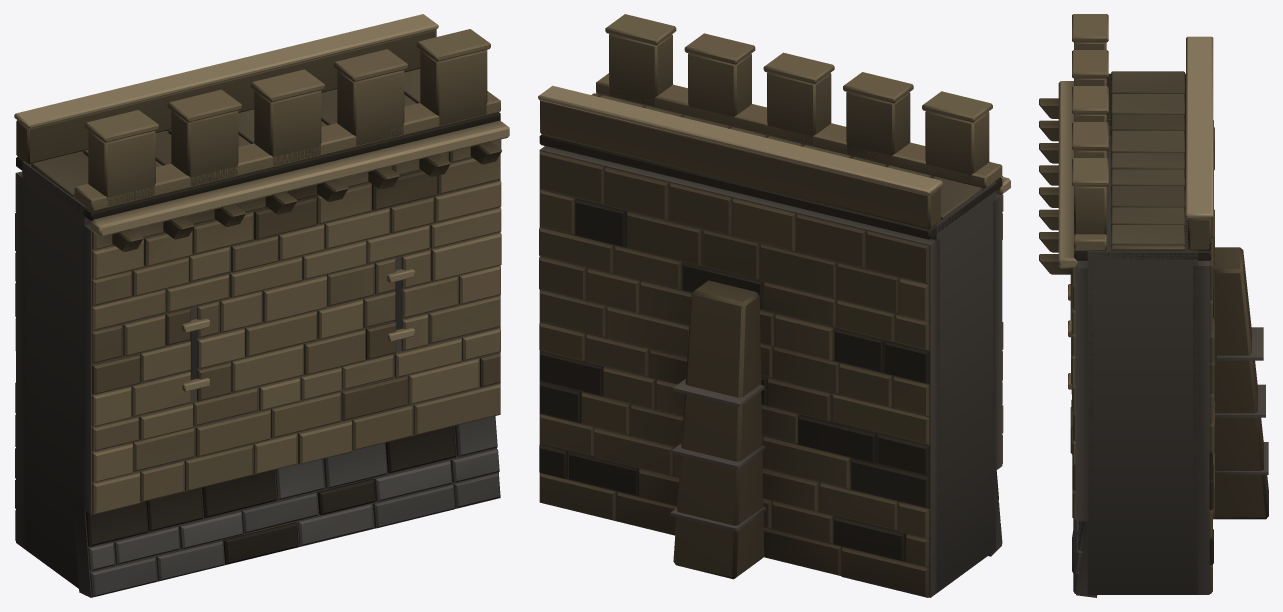
File: Muralha4.fbx
3 views of the same model, side by side, from view 1: azimuth 30°, elevation 25°; view 2: azimuth 150°, elevation 25°; view 3: azimuth 270°, elevation 25° (orthographic). The views are drawn at different scales.
Parts seen in each view (by area): view 1: Muralha4; view 2: Muralha4; view 3: Muralha4.
Part boxes in pixels (left/top/right/bottom): Muralha4: left=14, top=14, right=509, bottom=597; Muralha4: left=538, top=14, right=1010, bottom=597; Muralha4: left=1039, top=14, right=1268, bottom=597.
Size of the model in its own units: 8.02 by 8.63 by 4.37.
